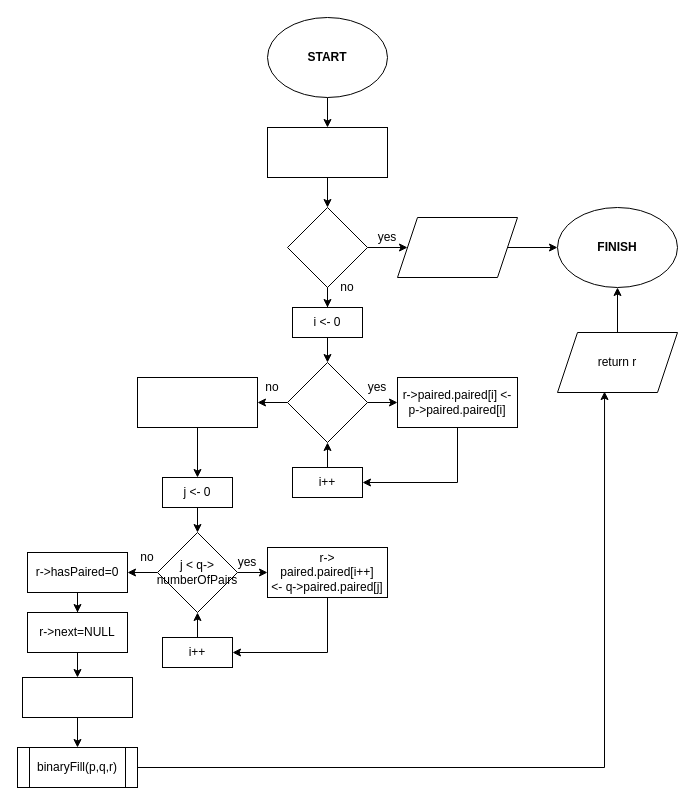
This 695x805 diagram has some shape labels left out. The shapes that lost their labels are listed below. From the top down, each one's box as (x1, y1, x2, y2) in pixels, then its label:
(266, 126, 388, 178): r <-(node *) malloc(sizeof(node))
(286, 206, 368, 288): r = NULL ?
(396, 216, 518, 278): output('gagal')
(136, 376, 258, 428): r->numberOfPairs <- p->numberOfPairs*2
(286, 362, 368, 442): i < p-> numberOfPairs
(22, 676, 132, 718): r->group=p->group
